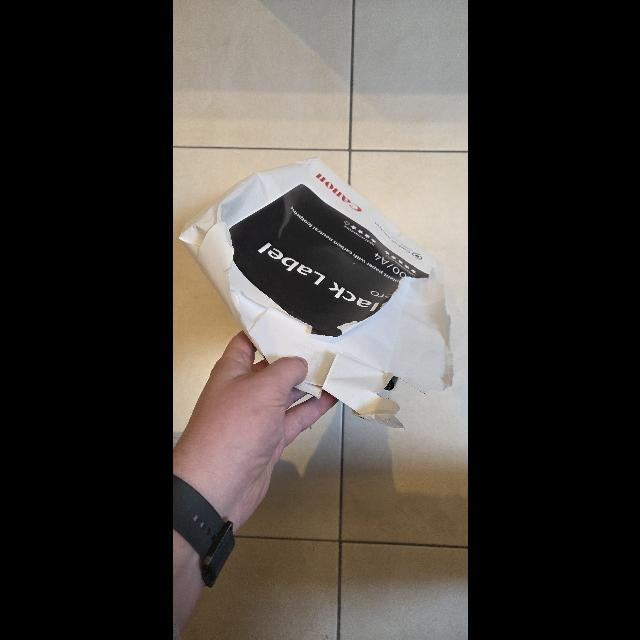Paper: (178, 156, 456, 432)
